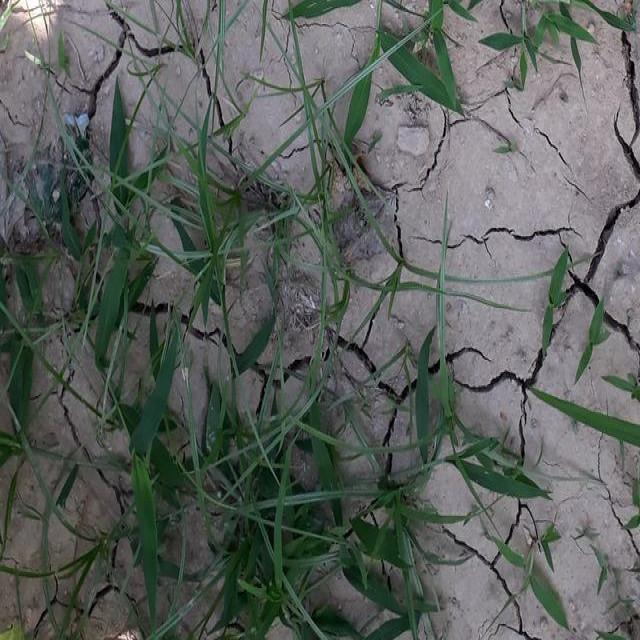weed: (5, 150, 442, 640)
